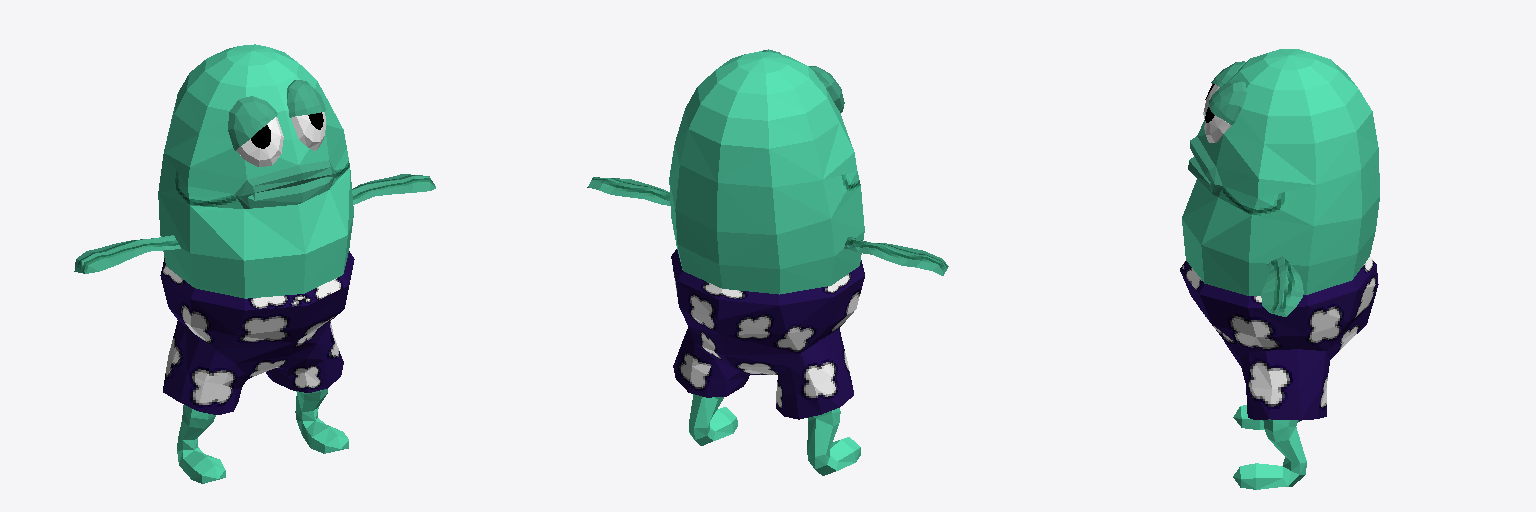
The picture shows the model from 3 angles: view 1: azimuth 30°, elevation 25°; view 2: azimuth 150°, elevation 25°; view 3: azimuth 270°, elevation 25°; orthographic projection.
Parts seen in each view (by area): view 1: object 1; view 2: object 1; view 3: object 1.
Part boxes in pixels (x1,y1,x2,y2): object 1: (74,44,435,483); object 1: (587,49,948,475); object 1: (1180,49,1379,489).
Bounding box in the file's own units: 10.98 × 11.83 × 5.35.
Materials: 1 (1 with a texture image).